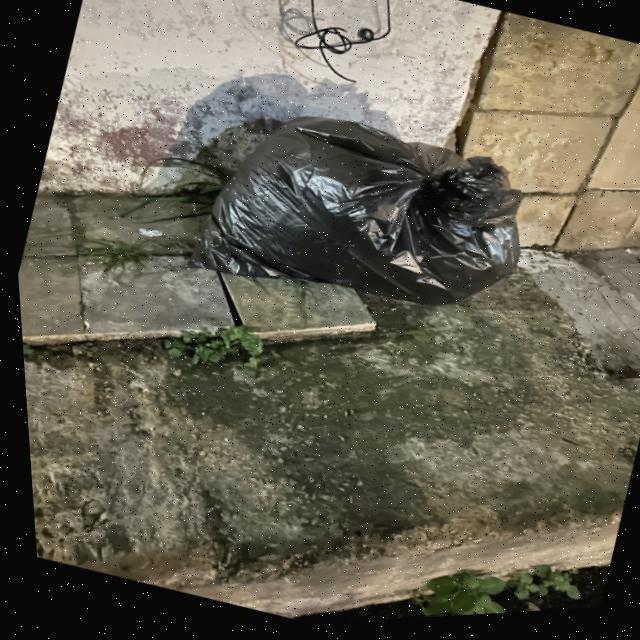Mixed Waste -Black Bag-: (176, 79, 550, 364)
